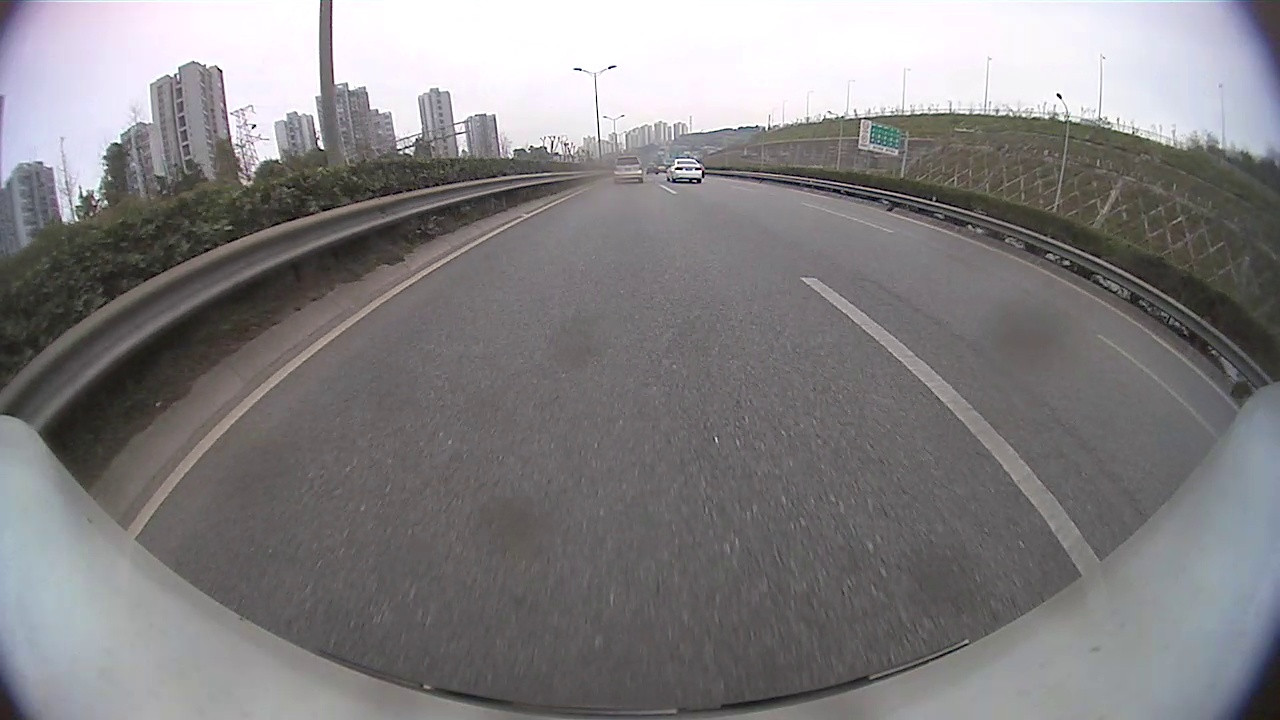car: (665, 156, 703, 183), (611, 155, 646, 184), (698, 160, 706, 175)
